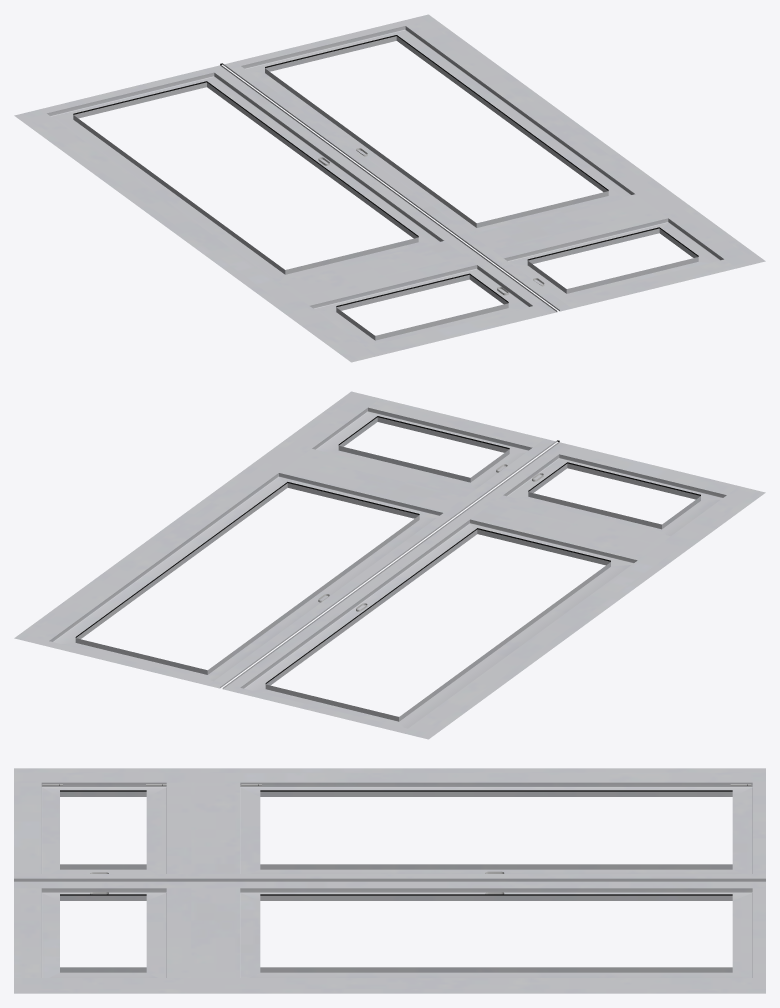
File: SM_Window_07.obj
The picture shows the model from 3 angles, top to bottom: view 1: azimuth 30°, elevation 25°; view 2: azimuth 150°, elevation 25°; view 3: azimuth 270°, elevation 25°; orthographic projection. The views are drawn at different scales.
Visible parts, largest first — view 1: SM_Window_07; view 2: SM_Window_07; view 3: SM_Window_07.
Part boxes in pixels (x1,y1,x2,y2): SM_Window_07: (14,14,765,362); SM_Window_07: (14,391,765,739); SM_Window_07: (14,768,765,993).
Size of the model in its own units: 2.16 by 0.0385 by 3.04.
3 materials, 2 textured.
